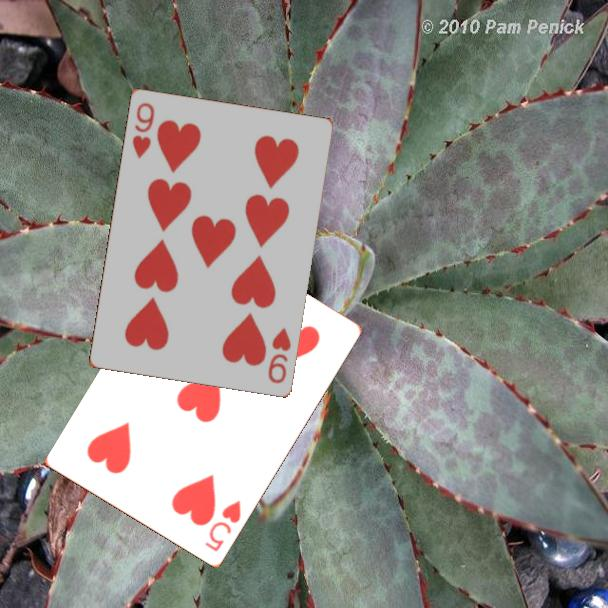h05: (202, 497, 244, 555)
h09: (264, 324, 293, 386), (129, 99, 157, 161)
